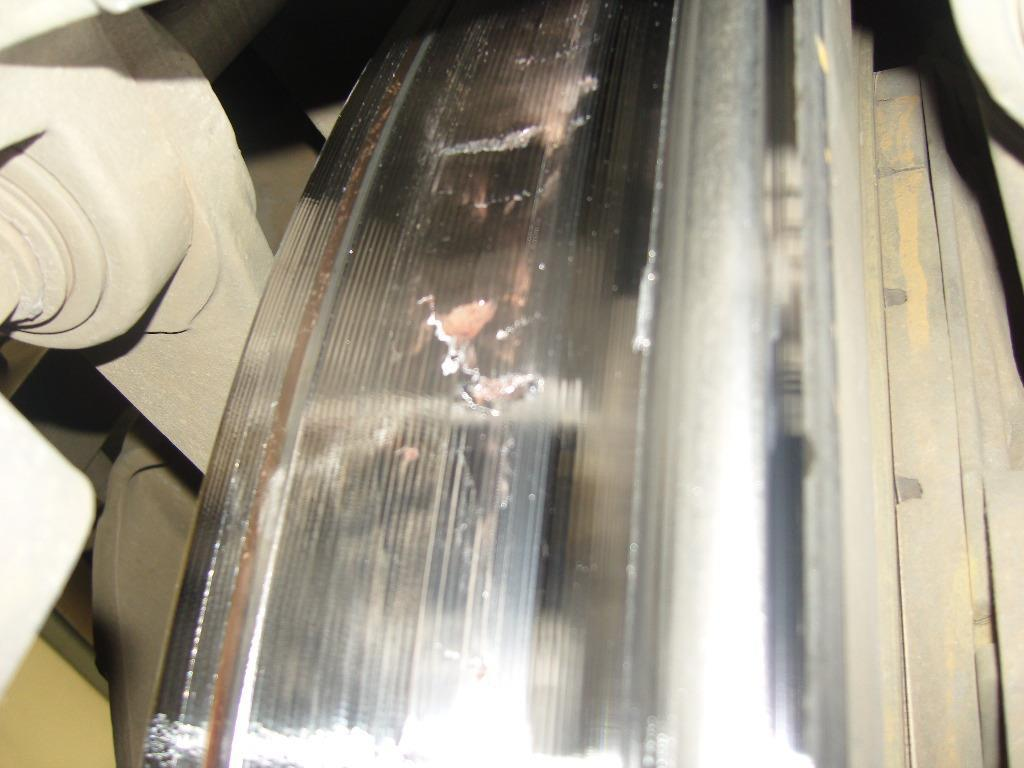Cracks-Scratches: (405, 287, 557, 433)
Shelling: (431, 115, 561, 208)
